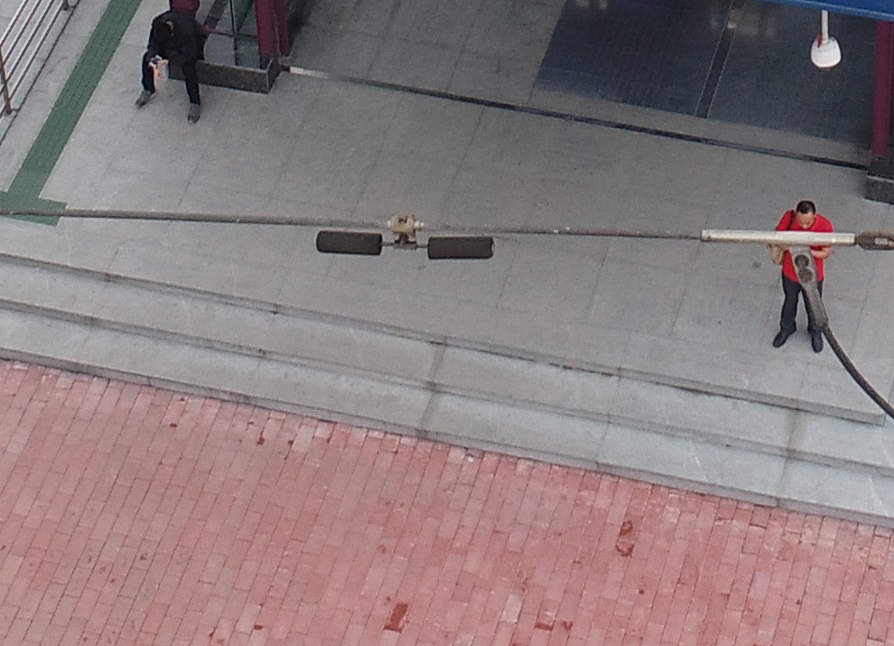damper: (313, 211, 496, 262)
